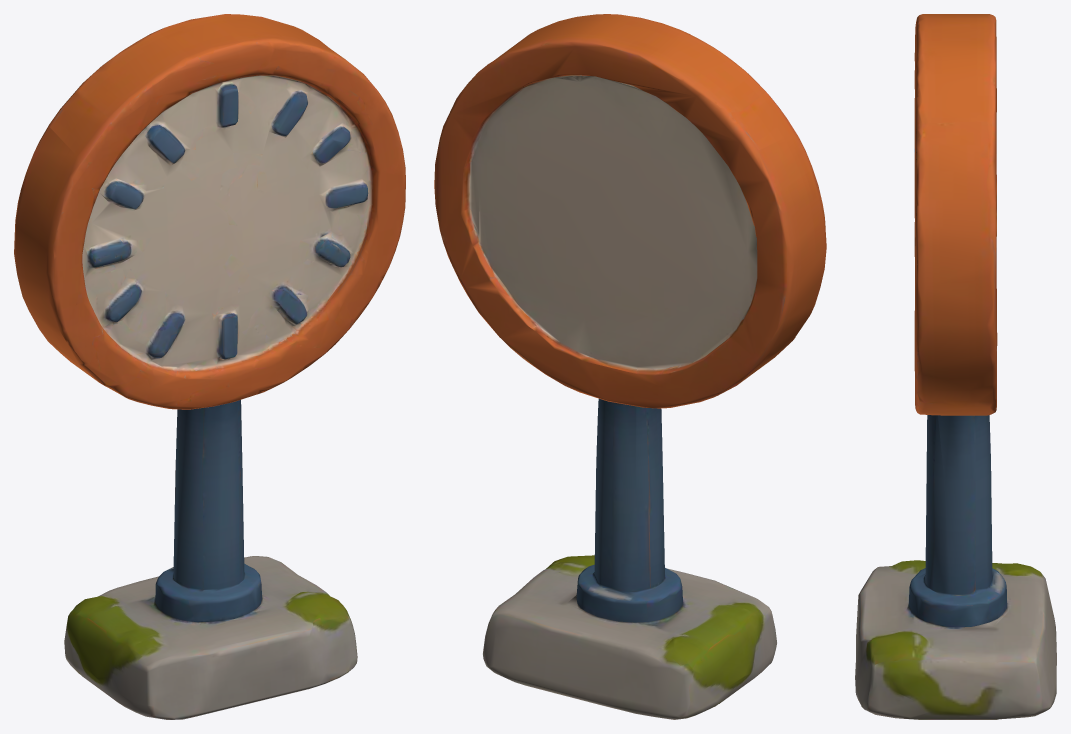
Rendered from clock-face.glb.
3 views of the same model, side by side, from view 1: azimuth 30°, elevation 25°; view 2: azimuth 150°, elevation 25°; view 3: azimuth 270°, elevation 25° (orthographic).
Parts seen in each view (by area): view 1: textured_mesh.obj; view 2: textured_mesh.obj; view 3: textured_mesh.obj.
Part boxes in pixels (bbox=[...]): textured_mesh.obj: bbox=[14, 14, 405, 719]; textured_mesh.obj: bbox=[434, 14, 826, 719]; textured_mesh.obj: bbox=[855, 14, 1056, 719].
Size of the model in its own units: 0.5874 by 0.999 by 0.2861.
1 material, 1 textured.
